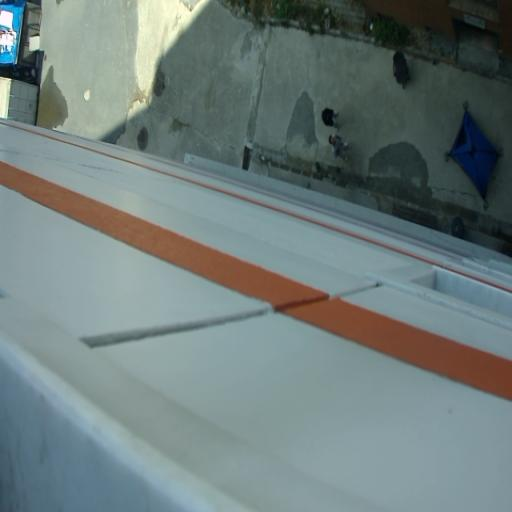tent: (441, 93, 508, 210)
